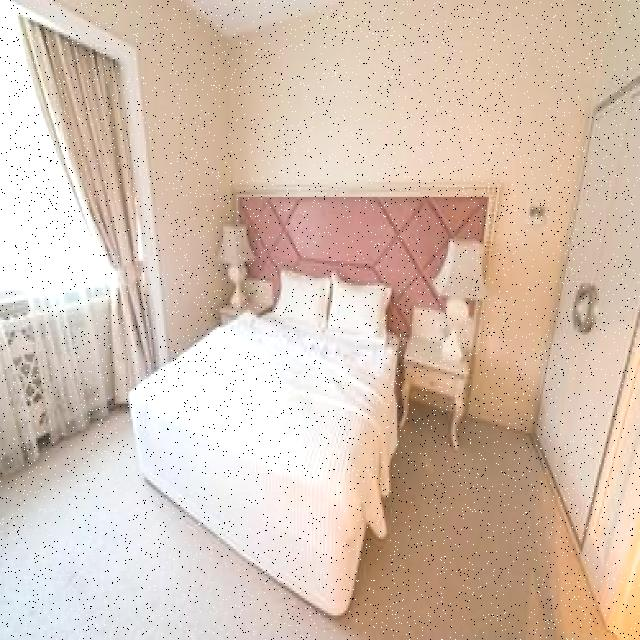bed: (124, 274, 410, 592)
